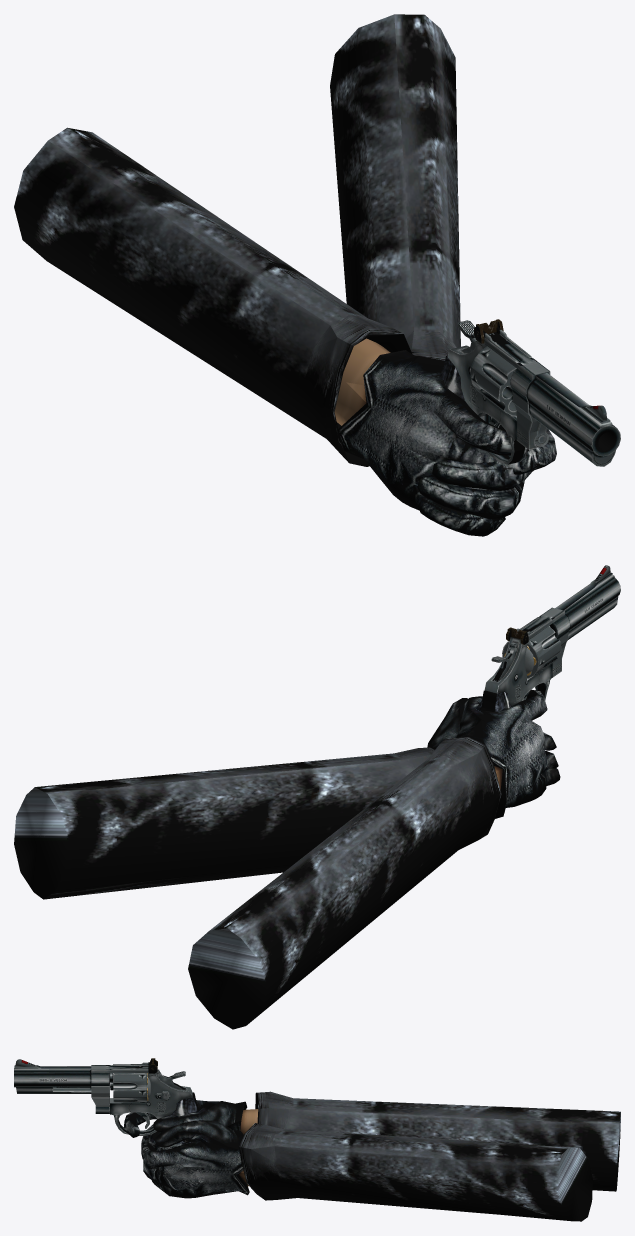
File: snw.FBX
3 renders of one model, top to bottom at view 1: azimuth 30°, elevation 25°; view 2: azimuth 150°, elevation 25°; view 3: azimuth 270°, elevation 25°, orthographic. The views are drawn at different scales.
Visible parts, largest first — view 1: snw; view 2: snw; view 3: snw.
Boxes of the visible parts, left/top/right/bottom form: snw: left=14, top=14, right=620, bottom=536; snw: left=14, top=565, right=620, bottom=1029; snw: left=14, top=1058, right=620, bottom=1221.
Size of the model in its own units: 13.33 by 31.26 by 7.68.
